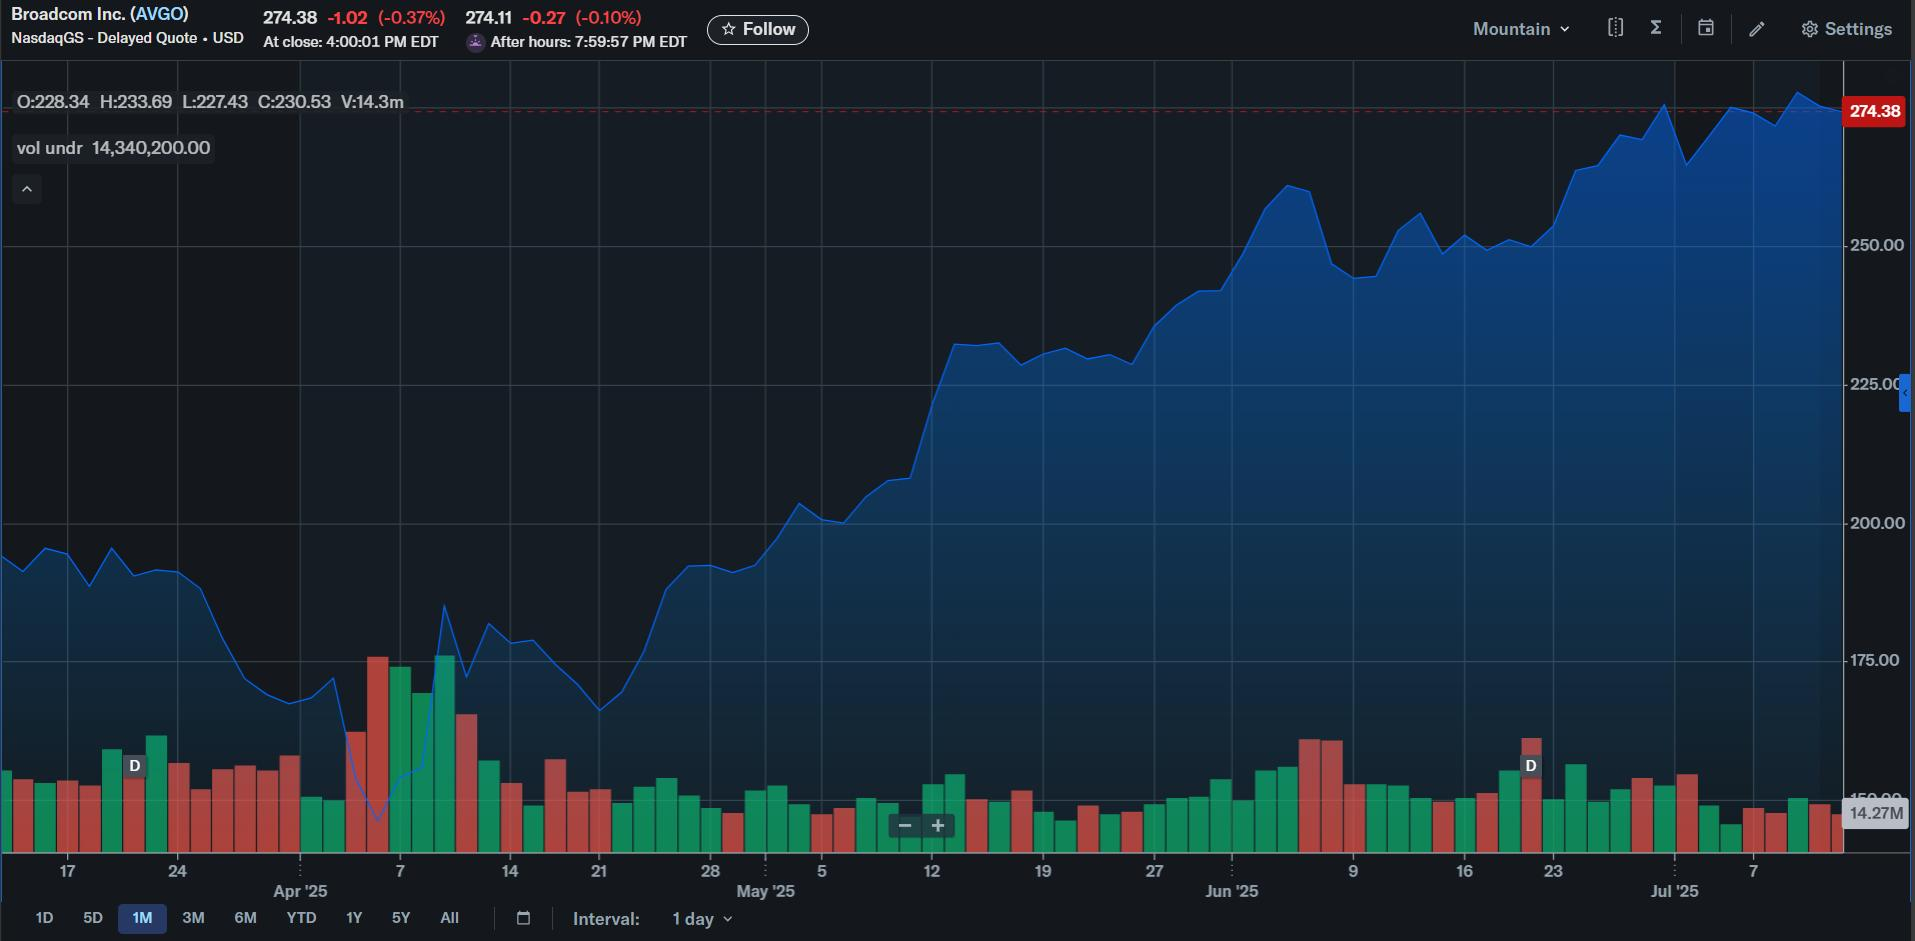Downtrend: (164, 528, 300, 723), (1292, 143, 1361, 298), (1652, 77, 1711, 176)
Sideways: (950, 317, 1019, 367)
Uptrend: (572, 533, 711, 722), (856, 288, 947, 522), (1500, 109, 1605, 258)
